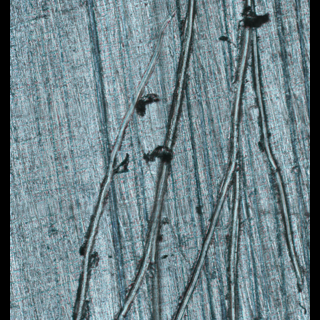d: (59, 0, 307, 319)
